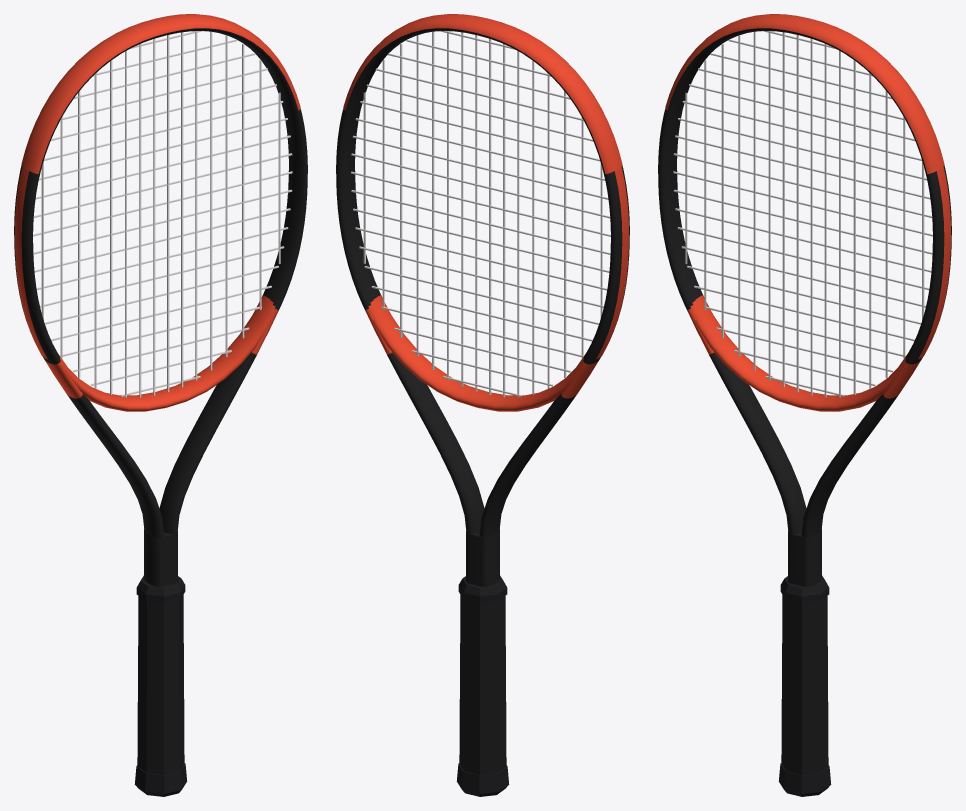
File: wilson-clash-100-pro-v3-2025.glb
3 views of the same model, side by side, from view 1: azimuth 30°, elevation 25°; view 2: azimuth 150°, elevation 25°; view 3: azimuth 330°, elevation 25° (orthographic).
Visible parts, largest first — view 1: frame, strings_mains, strings_crosses, grip, bumper, grommets, butt_cap, collar; view 2: frame, strings_mains, strings_crosses, grip, bumper, grommets, butt_cap, collar; view 3: frame, strings_mains, strings_crosses, grip, bumper, grommets, butt_cap, collar.
Boxes of the visible parts, <box> form: frame: <box>14,28,307,586</box>; strings_mains: <box>41,31,280,397</box>; strings_crosses: <box>33,31,292,396</box>; grip: <box>137,595,184,774</box>; bumper: <box>21,14,300,173</box>; grommets: <box>14,166,47,359</box>; butt_cap: <box>134,763,187,796</box>; collar: <box>136,575,185,603</box>; frame: <box>336,28,629,586</box>; strings_mains: <box>363,31,602,397</box>; strings_crosses: <box>351,31,610,396</box>; grip: <box>459,595,506,774</box>; bumper: <box>343,14,622,173</box>; grommets: <box>596,166,629,359</box>; butt_cap: <box>456,763,509,796</box>; collar: <box>458,575,507,603</box>; frame: <box>658,28,951,586</box>; strings_mains: <box>685,31,924,397</box>; strings_crosses: <box>673,31,932,396</box>; grip: <box>781,595,828,774</box>; bumper: <box>665,14,944,173</box>; grommets: <box>918,166,951,359</box>; butt_cap: <box>778,763,831,796</box>; collar: <box>780,575,829,603</box>.
Bounding box in the file's own units: 0.2687 × 0.6861 × 0.0396.
